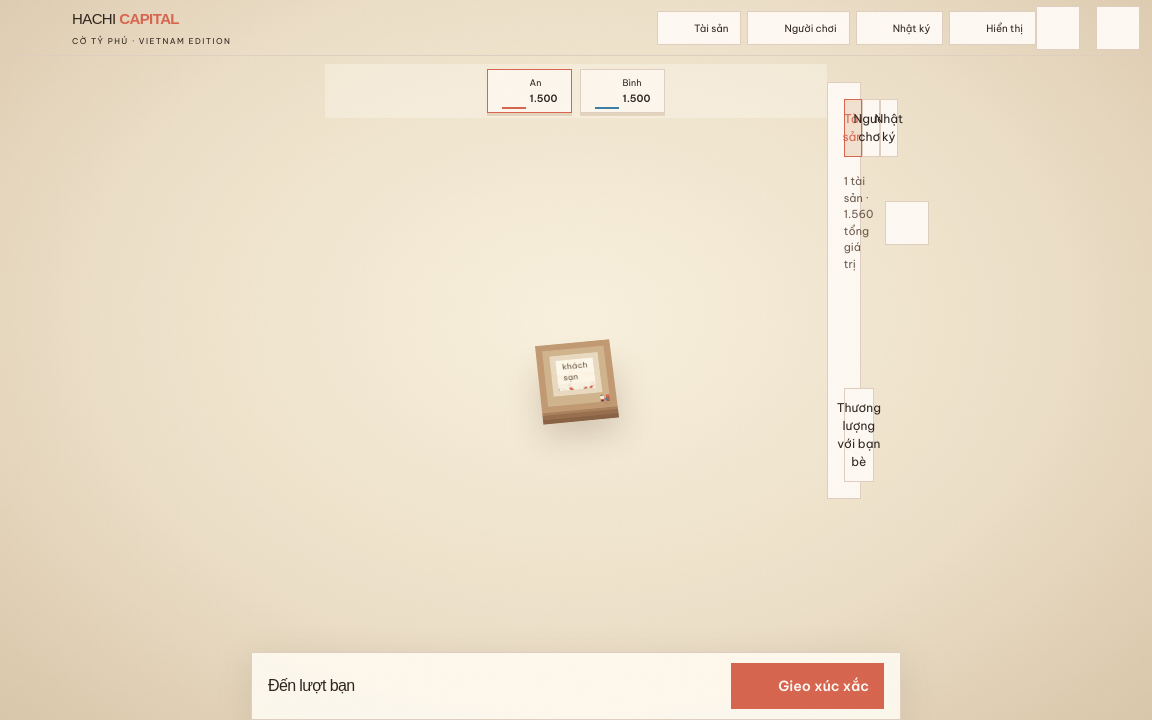
it: property details show rent/mortgage and only owners get management controls
Click the button with aria-label "1. Hội An, giá 60": (602, 398) [600,395,604,402]
(page scrolled)
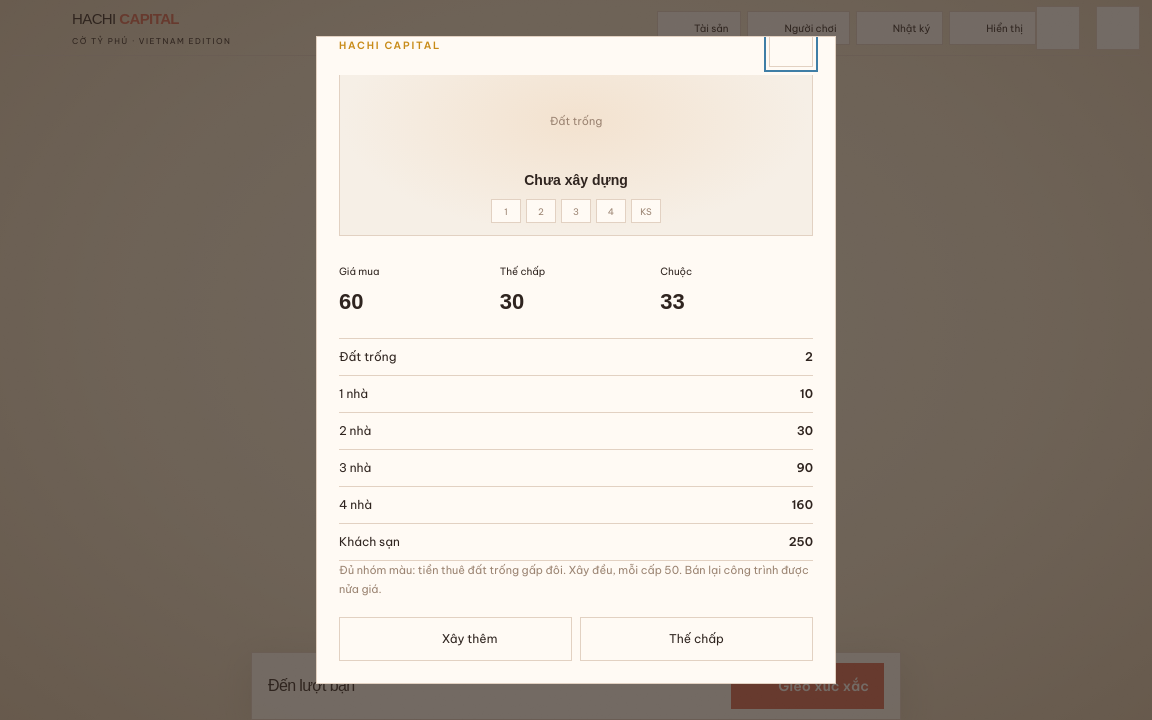
expect the dialog shows "Khách sạn": met, box [339,534,400,549]
expect the element with class "asset-actions" is shown: met, box [339,617,813,661]
